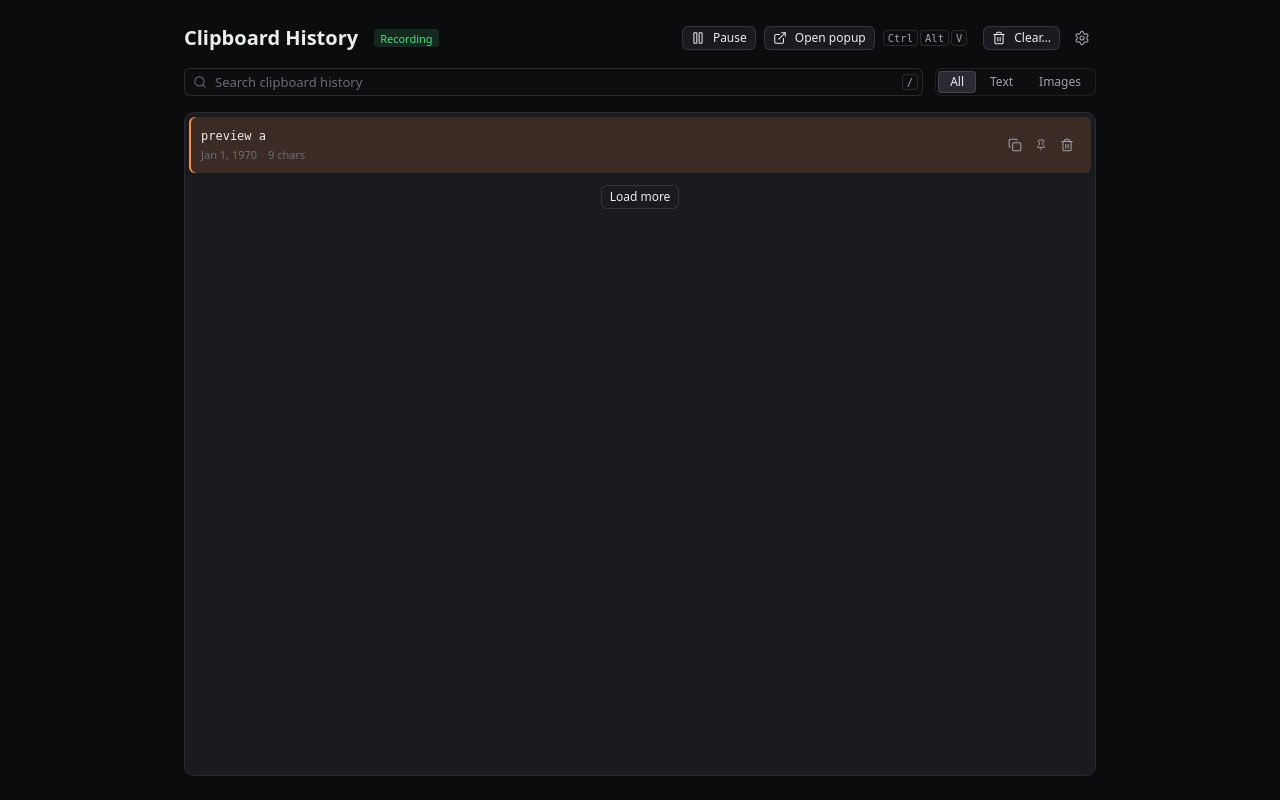
Test: ClipboardView › pages with Load more
Click the button "Load more": x=640, y=197 left=601, top=185, right=679, bottom=209
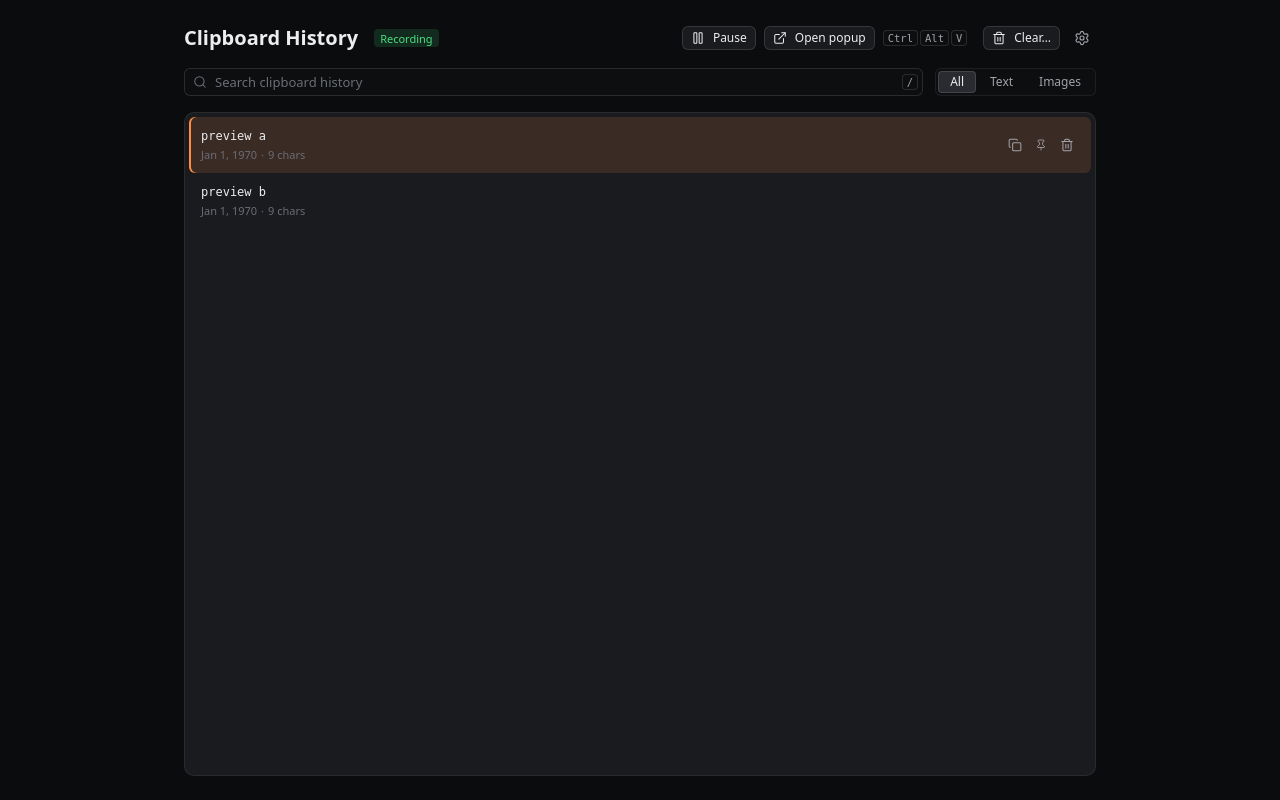
Expected: the text "preview b" is shown, left=201, top=185, right=266, bottom=199
Expected: the button "Load more" is gone
